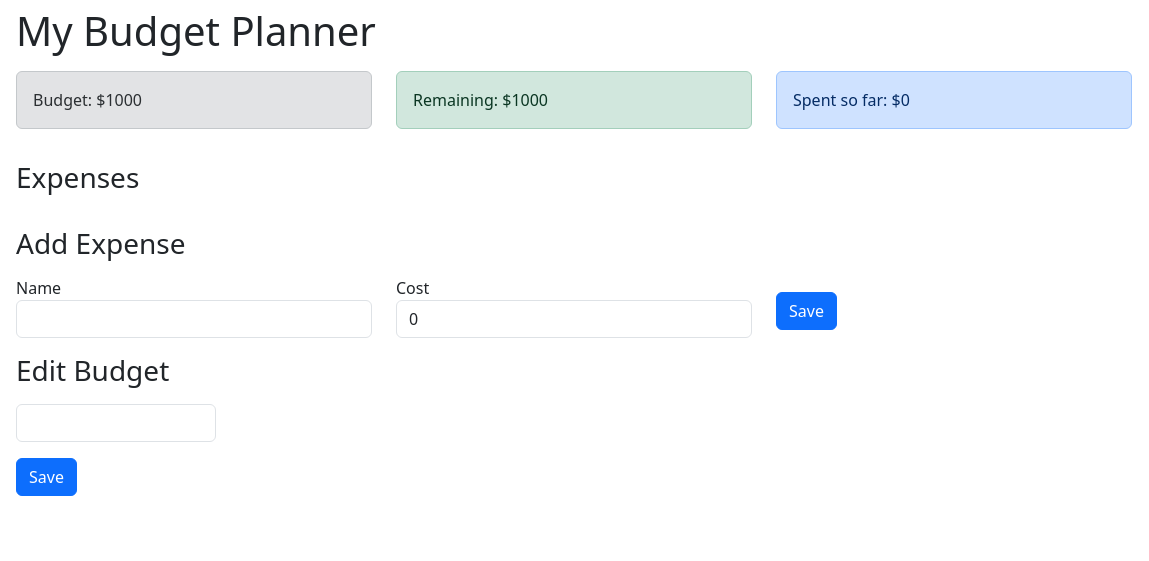
Required Test Cases › delete an expense
This screenshot has width=1149, height=561.
Type "Groceries" into the field with id "name".
click(194, 319); type("Groceries")  # box [16, 300, 372, 338]
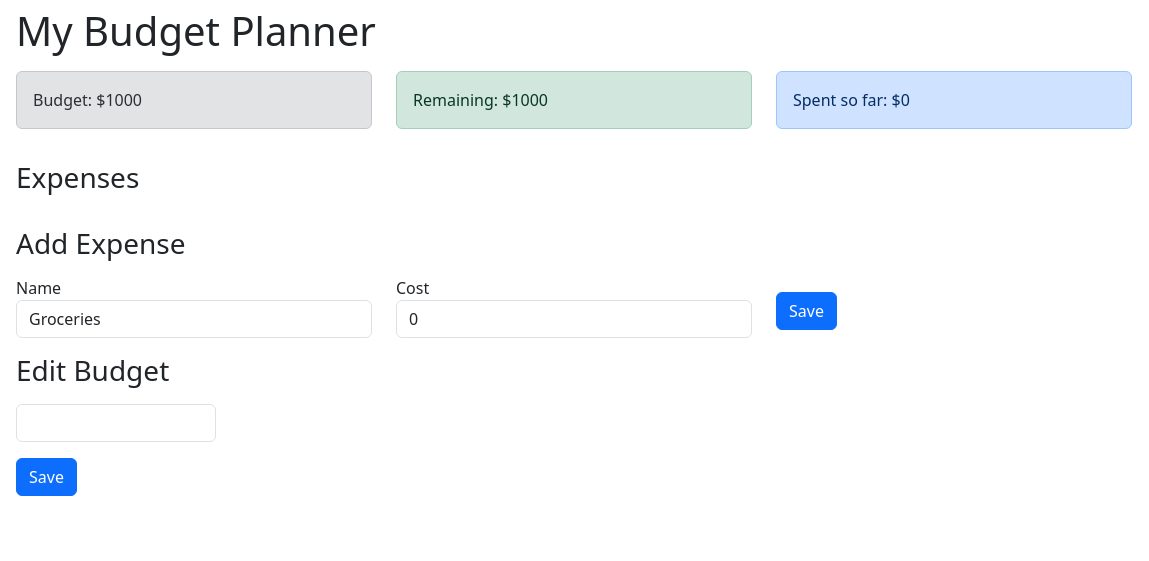
Replace the text in the field with id "cost" with "100" at (574, 319), box [396, 300, 752, 338]
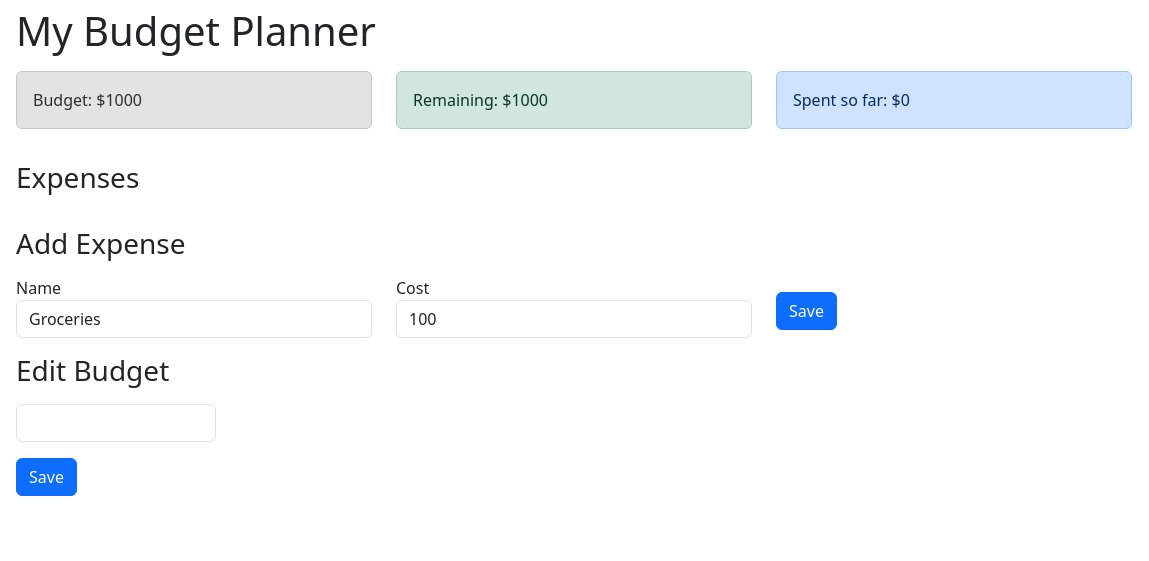
Click the button with id "save".
click(806, 311)  # box [776, 292, 837, 330]
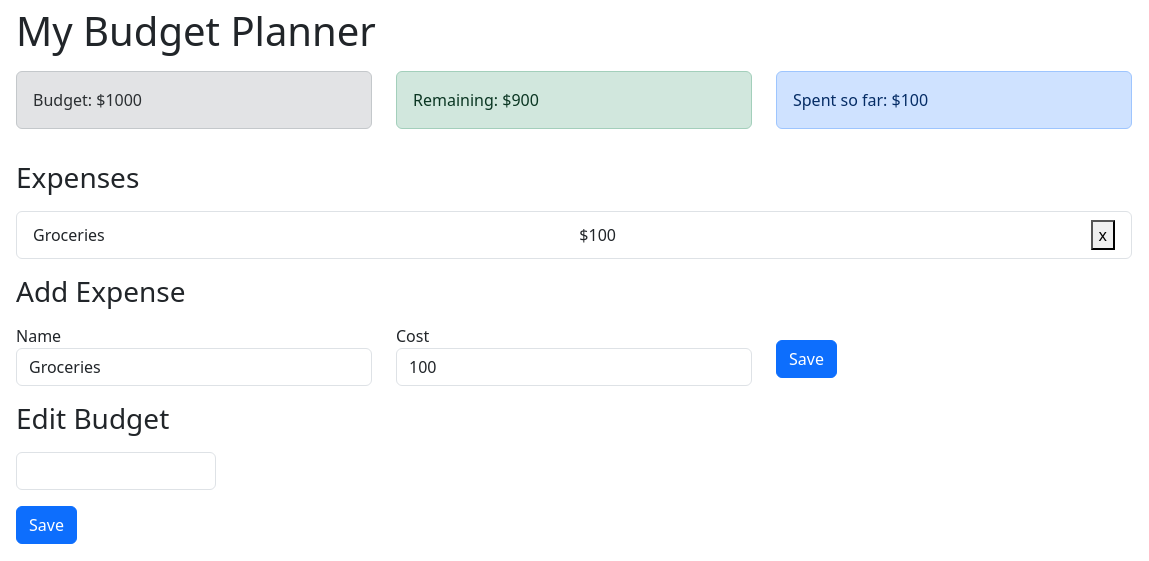
Clear the field with id "name" at (194, 367), box [16, 348, 372, 386]
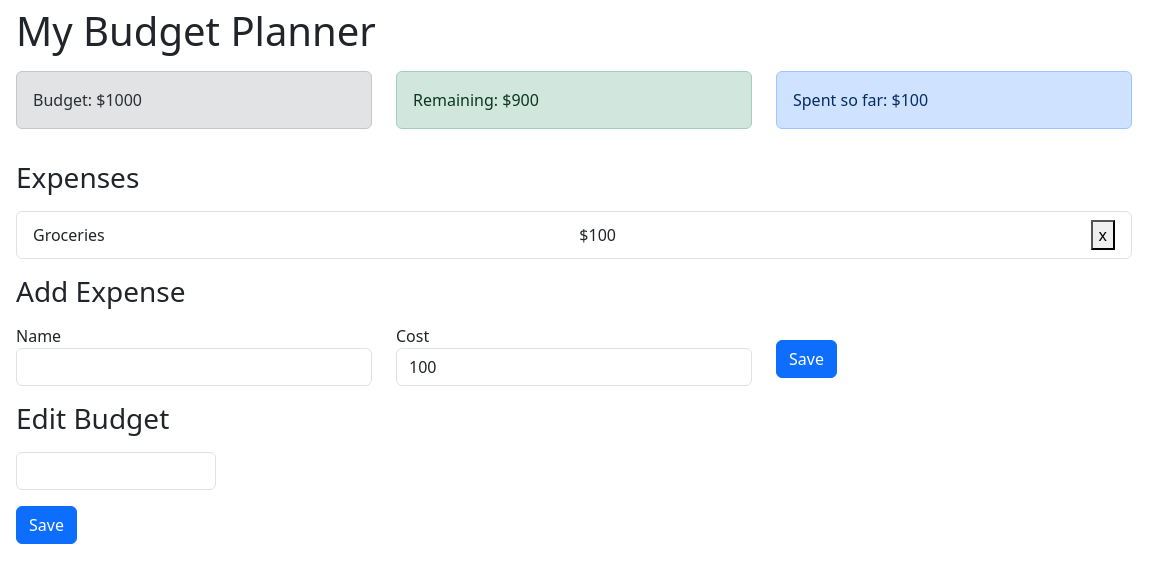
Replace the text in the field with id "cost" with "0" at (574, 367), box [396, 348, 752, 386]
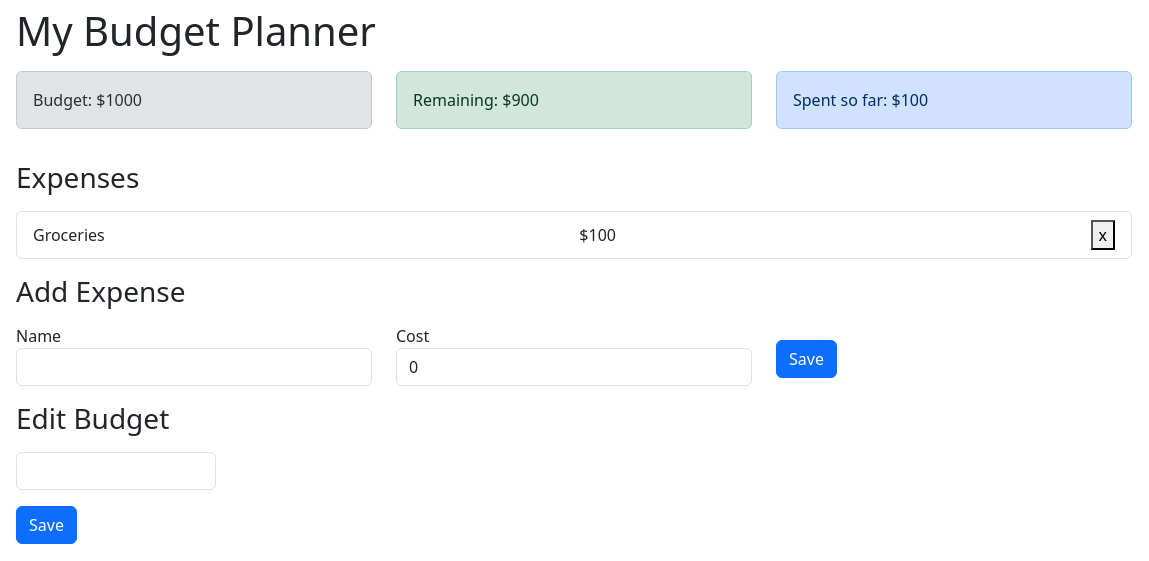
Now the text "Groceries" is shown, box [33, 223, 105, 247]
Now the text "$100" is shown, box [579, 223, 616, 247]
Click the button "x".
click(1103, 235)  # box [1090, 220, 1115, 250]
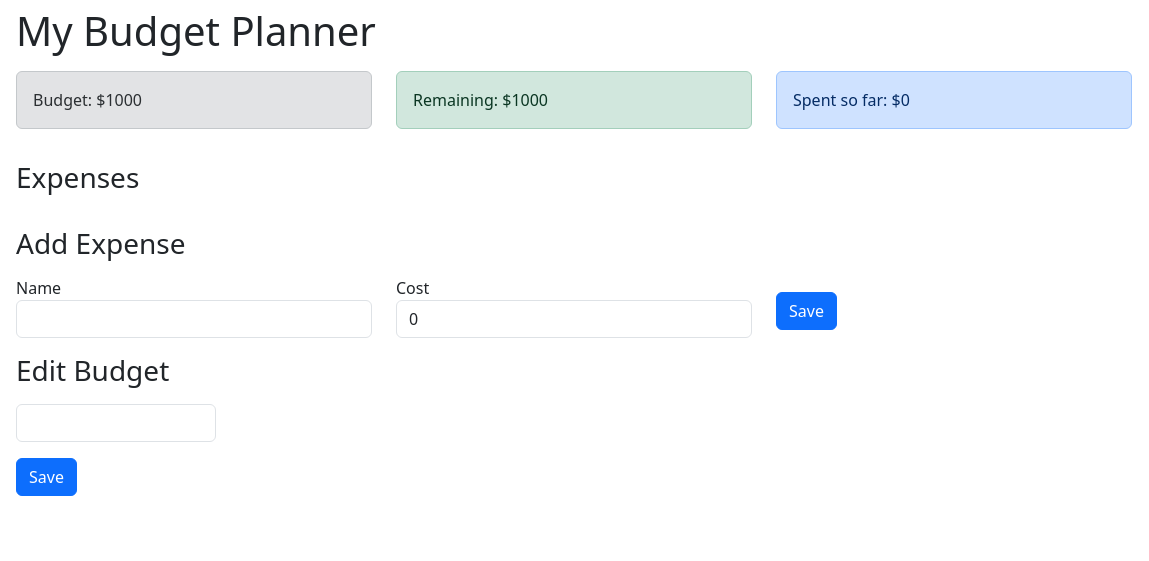
Now the text "Groceries" is gone
